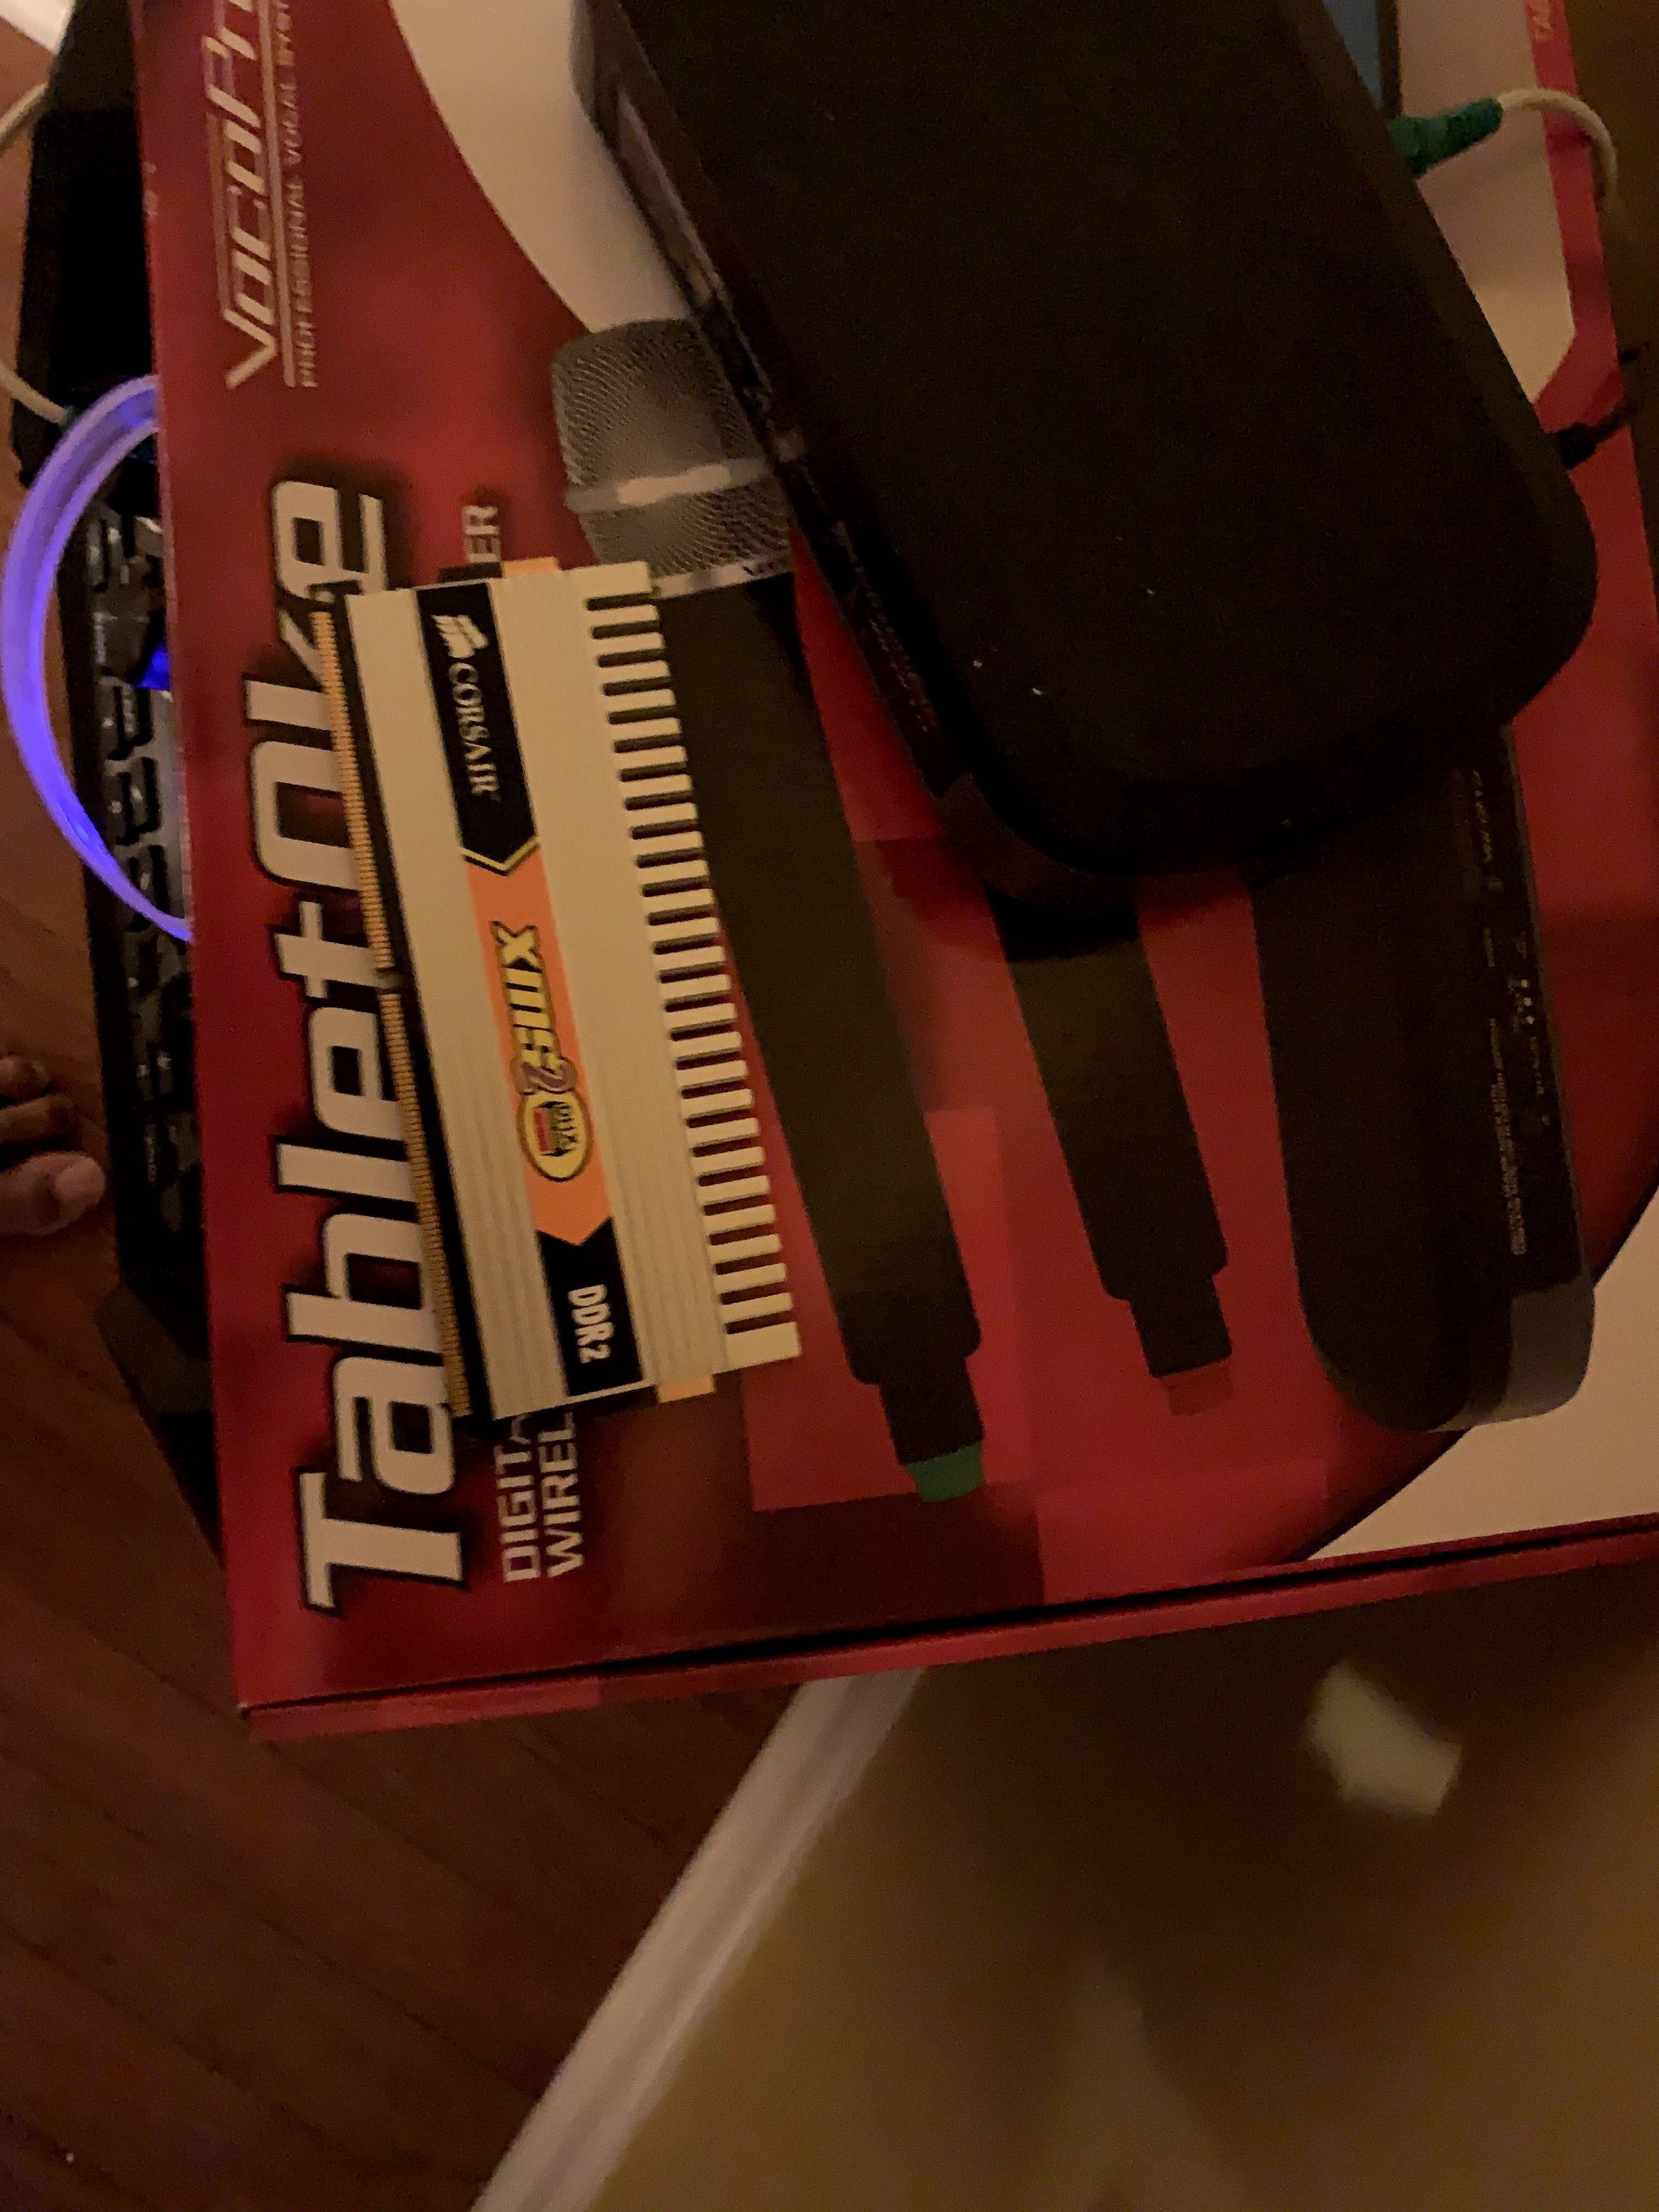Space-debris-medium: (310, 543, 826, 1442)
